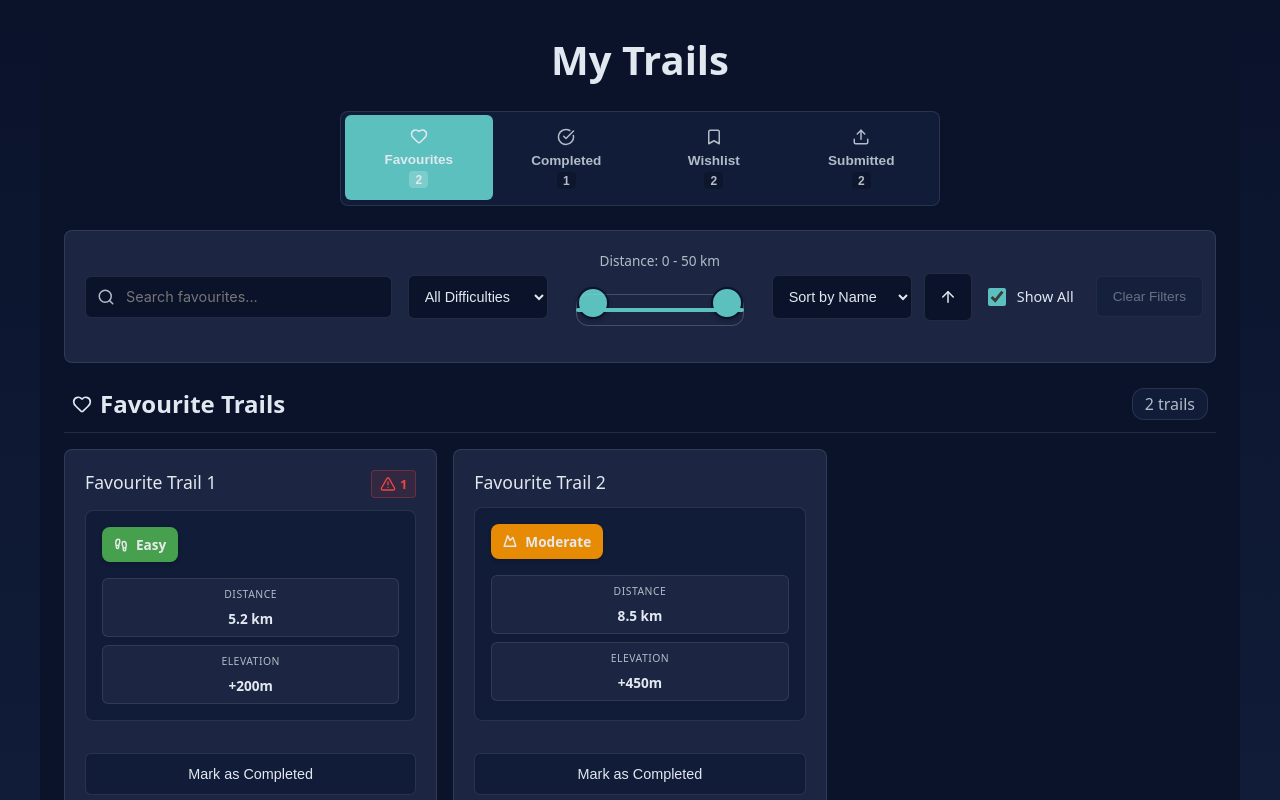
Test case: MyTrails Component › Tab Navigation › switches to completed tab
Expected: the heading "Favourite Trails" is shown, 72,387 -> 285,420
Click the text "Completed".
click(566, 160)  # box 531,153 -> 601,168
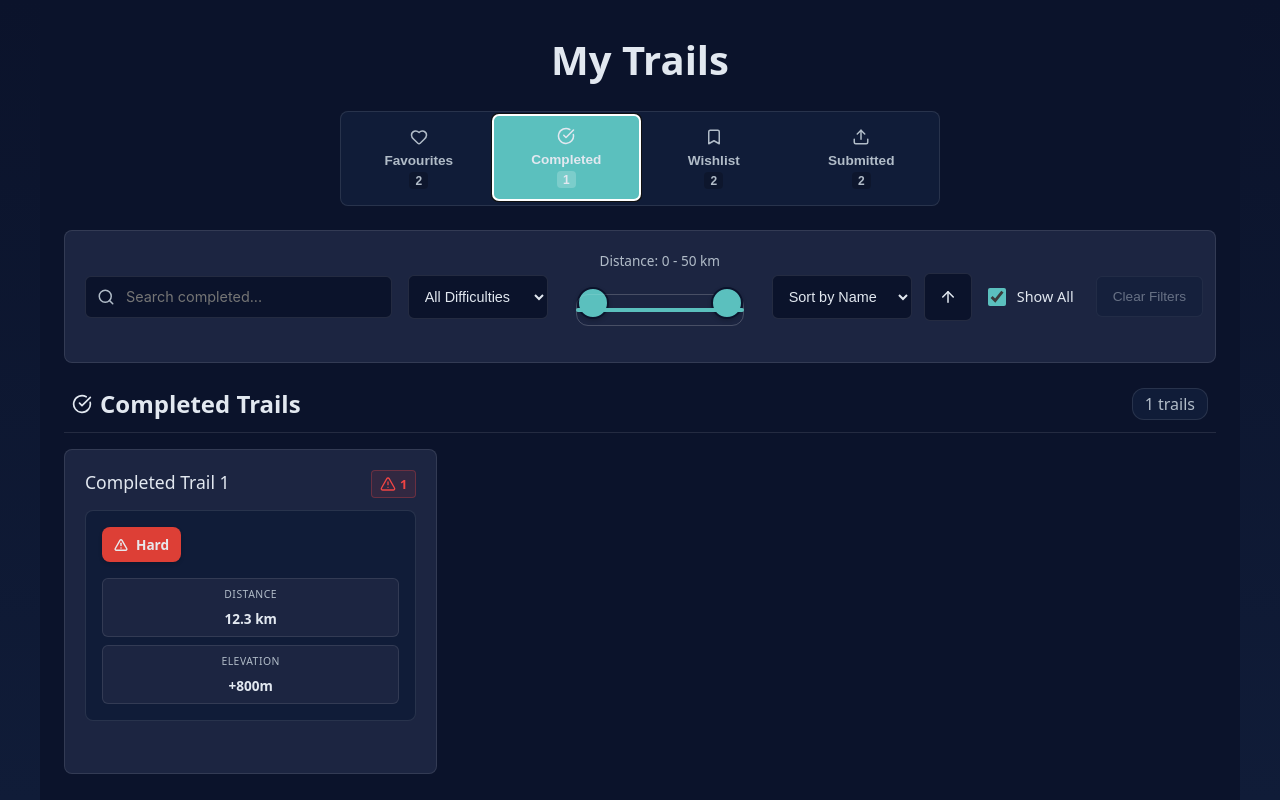
Result: the heading "Completed Trails" is shown at 72,387 -> 301,420
